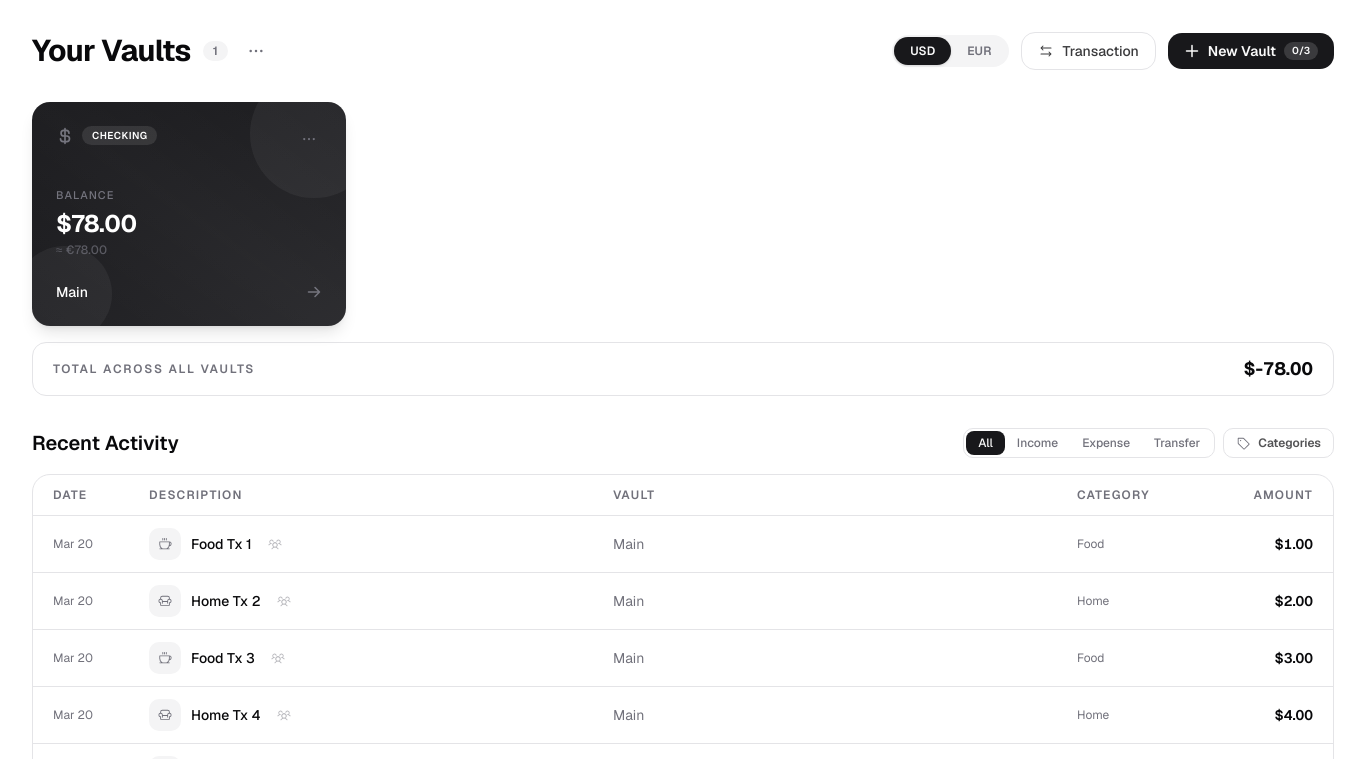
Test case: Vaults Recent Activity pagination › filters movements by category without reloading
Check: the heading "Recent Activity" is shown, box [32,428,179,456]
Check: the text "Food Tx 1" is shown, box [191,534,252,554]
Click the button with aria-label "Filter by category".
click(1279, 442)  # box [1223,428,1334,458]
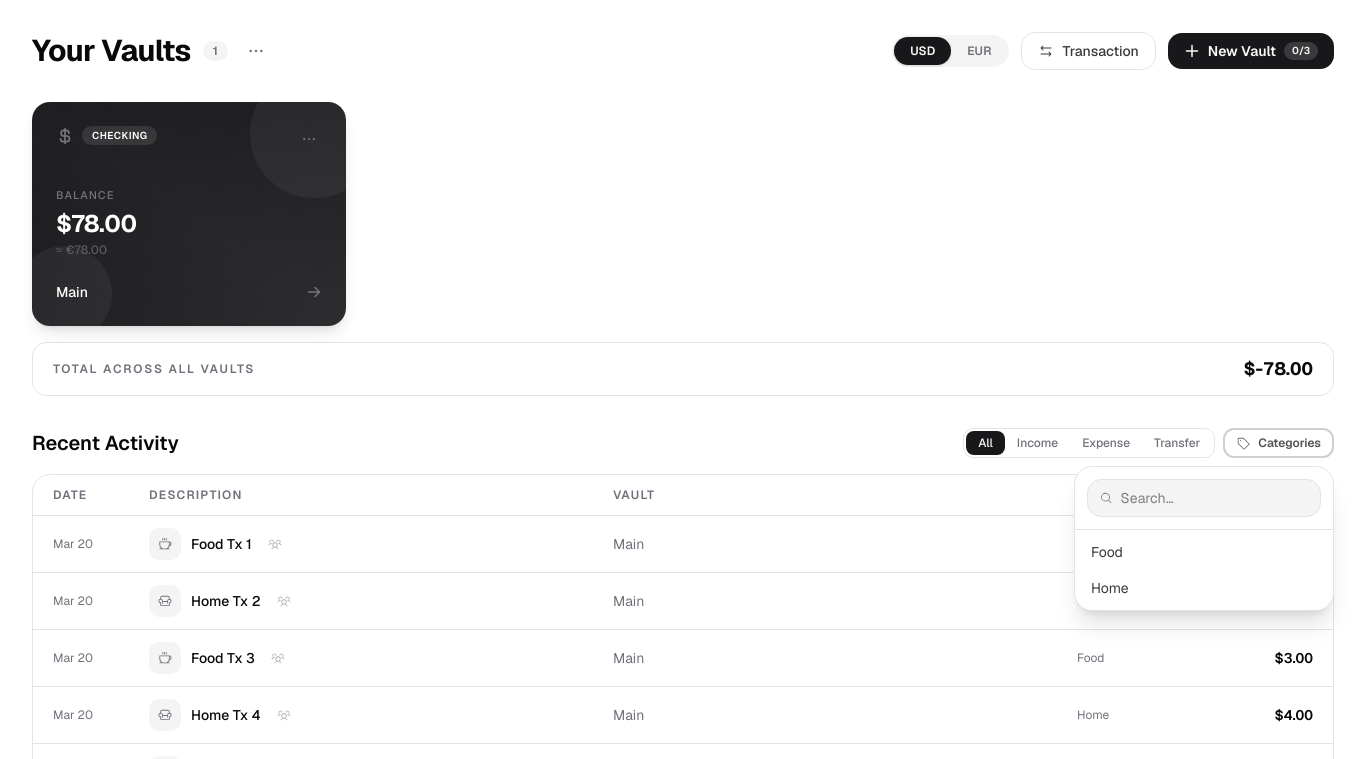
Click the button "Home".
click(1204, 588)  # box [1079,570,1329,606]
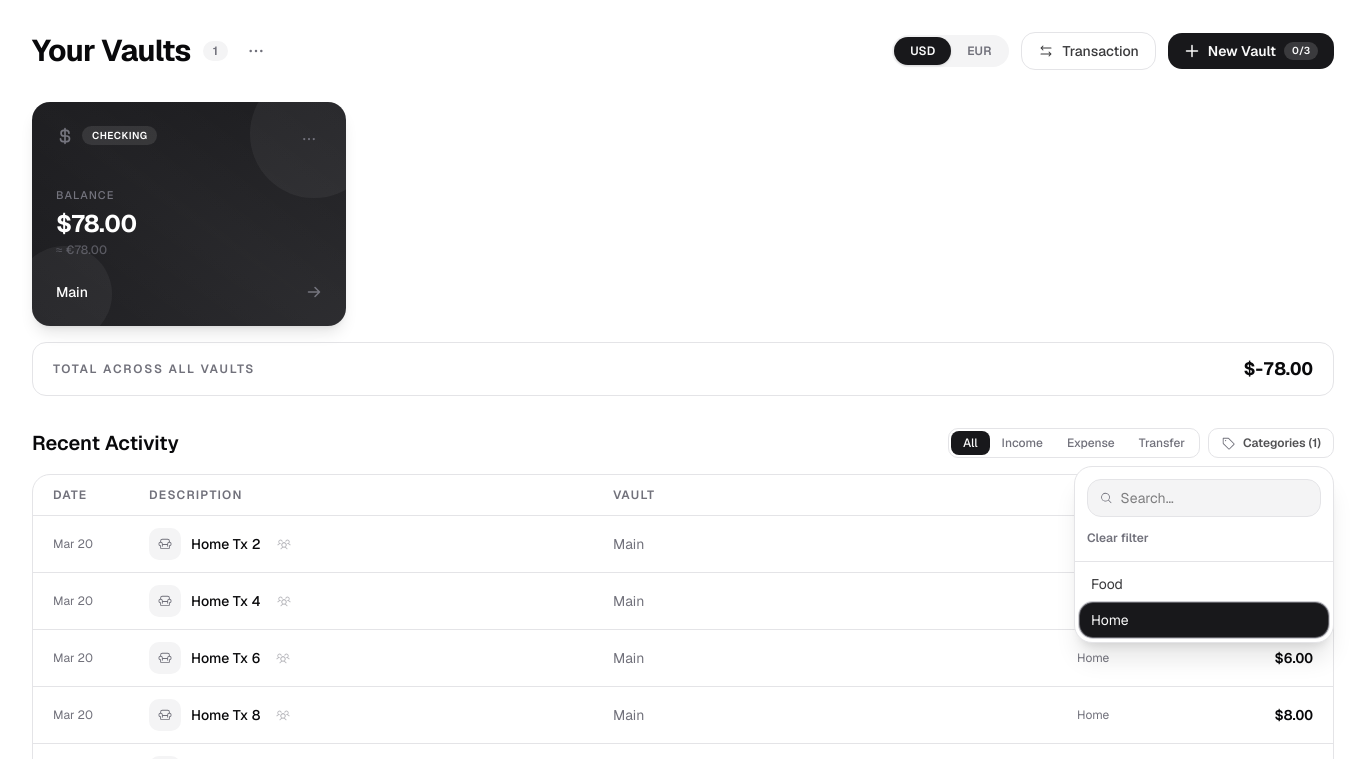
Check: the text "Home Tx 2" is shown, box [191,534,260,554]
Check: the text "Food Tx 1" is gone
